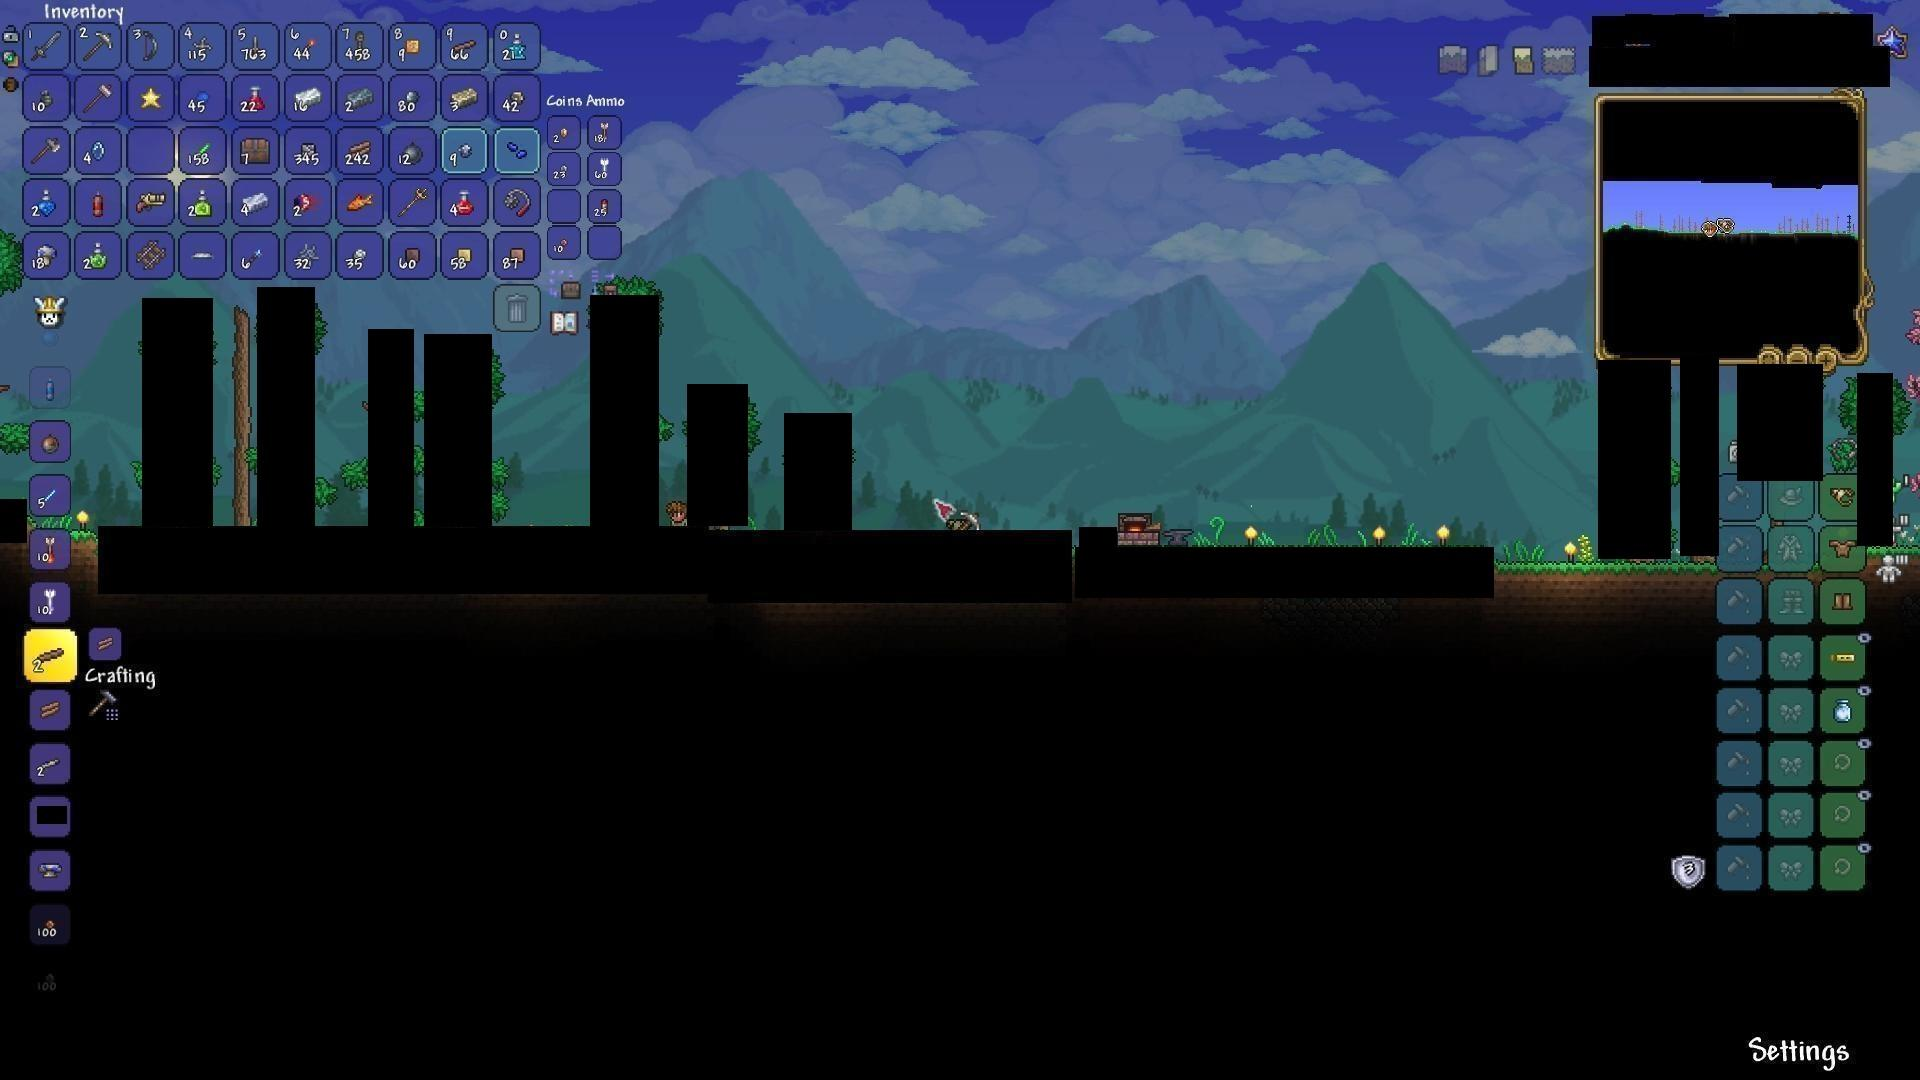breastplate: (1829, 541, 1854, 560)
dirt: (1493, 560, 1720, 597)
legs: (1830, 589, 1857, 615)
tree: (222, 301, 257, 526)
wood: (344, 137, 375, 165), (37, 698, 65, 724), (91, 632, 119, 658)
